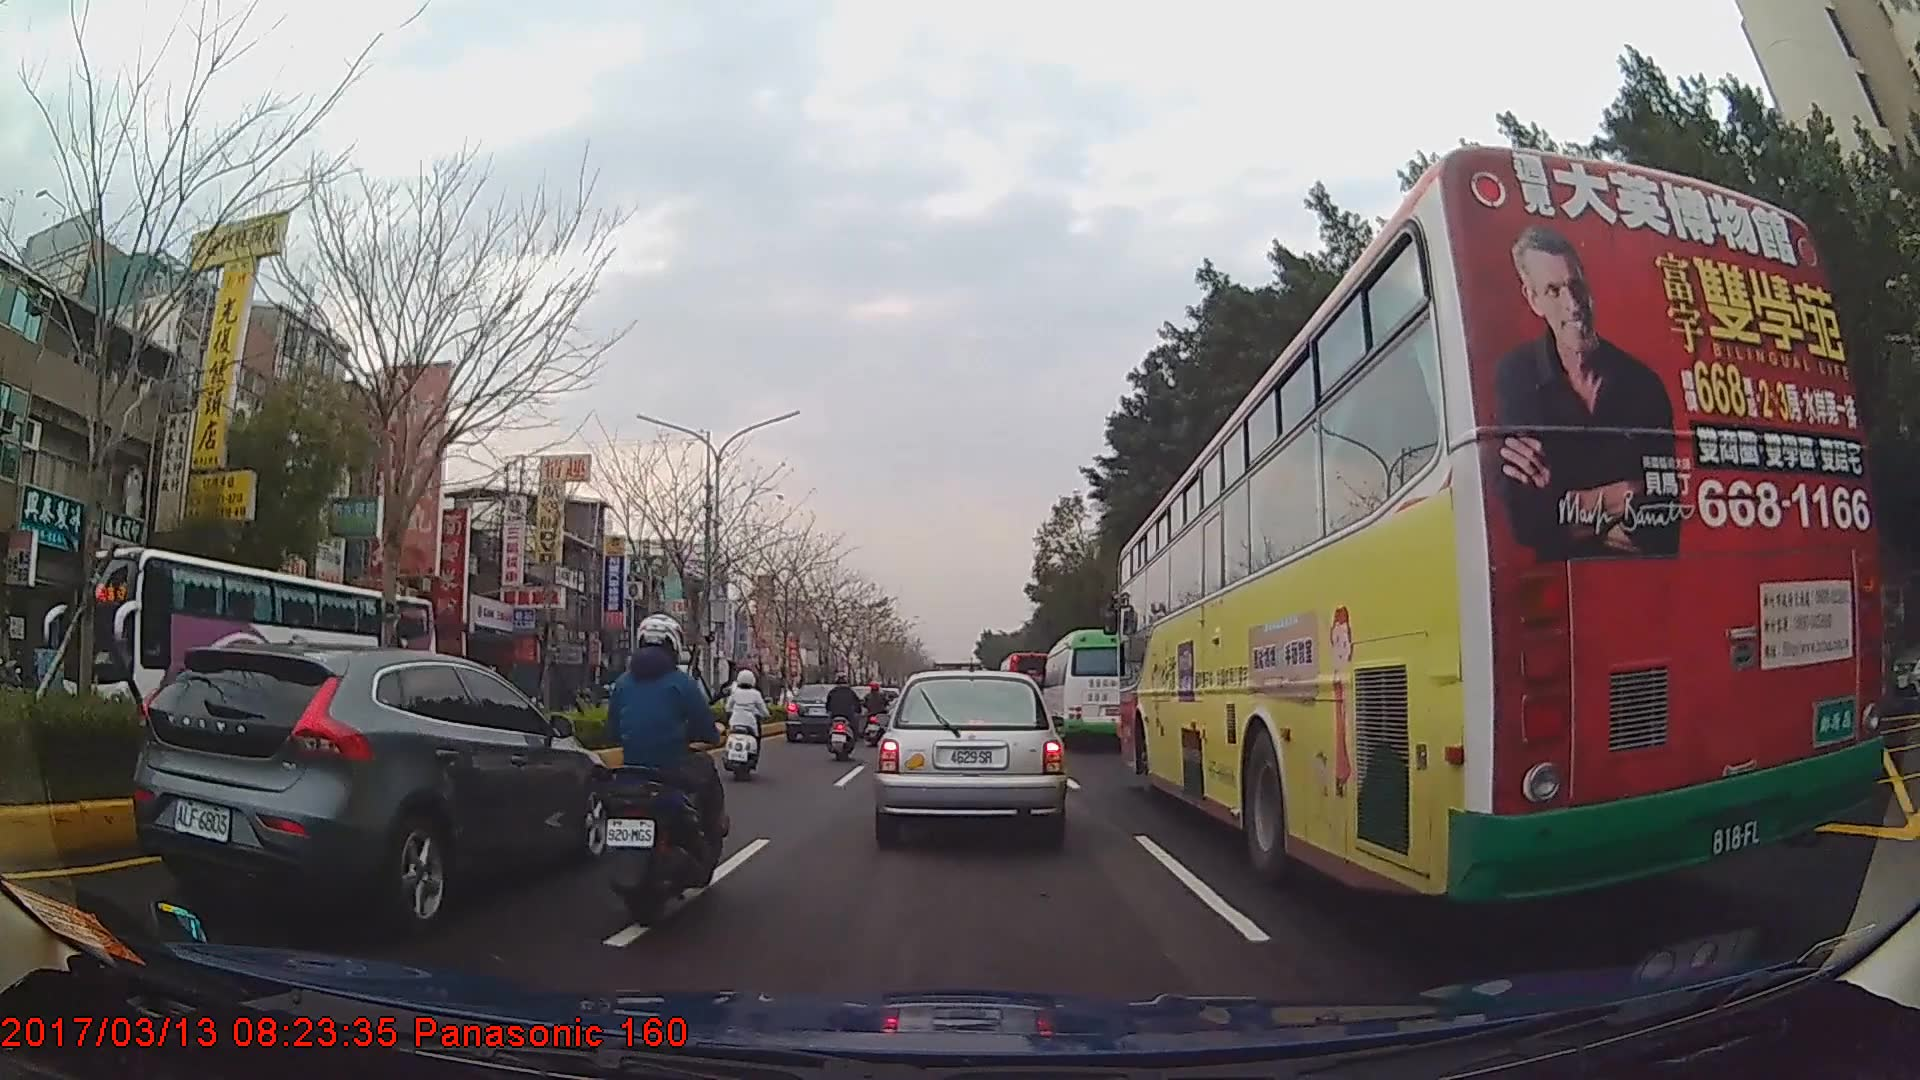rider: (600, 612, 722, 916), (722, 669, 771, 780), (826, 671, 864, 754), (860, 680, 890, 743)
vehicle: (1114, 140, 1887, 917), (129, 640, 619, 937), (67, 543, 433, 761), (874, 669, 1067, 847), (1042, 627, 1153, 750), (783, 681, 868, 743), (997, 648, 1056, 724)
